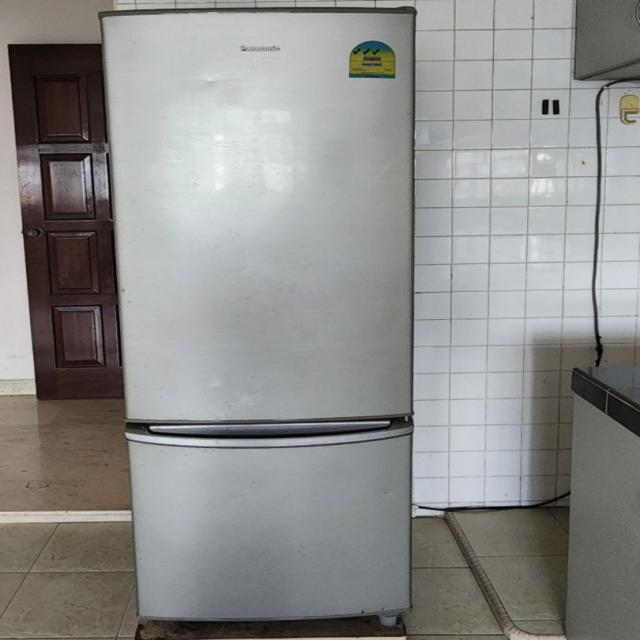refrigerator: (97, 4, 417, 640)
